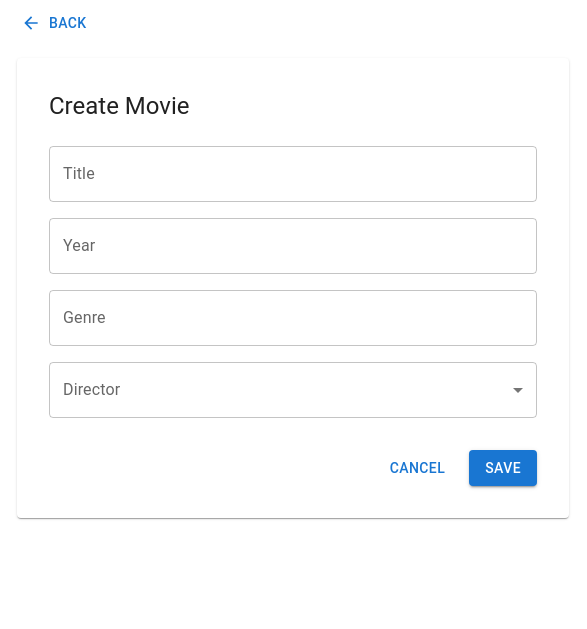
Test: MovieEdit Component › validation: does not save if fields are empty
The width and height of the screenshot is (587, 629).
Click the button "Save": (503, 468) [469,450,537,486]
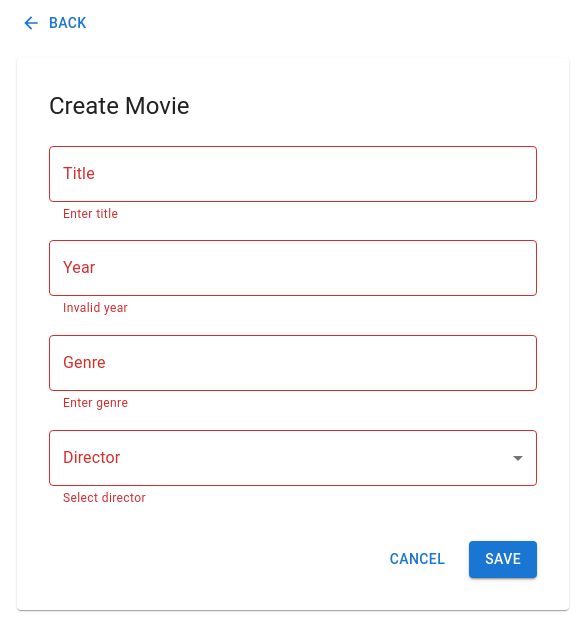
Now the text "Enter title" is shown, box [63,206,118,220]
Now the text "Invalid year" is shown, box [63,301,128,315]
